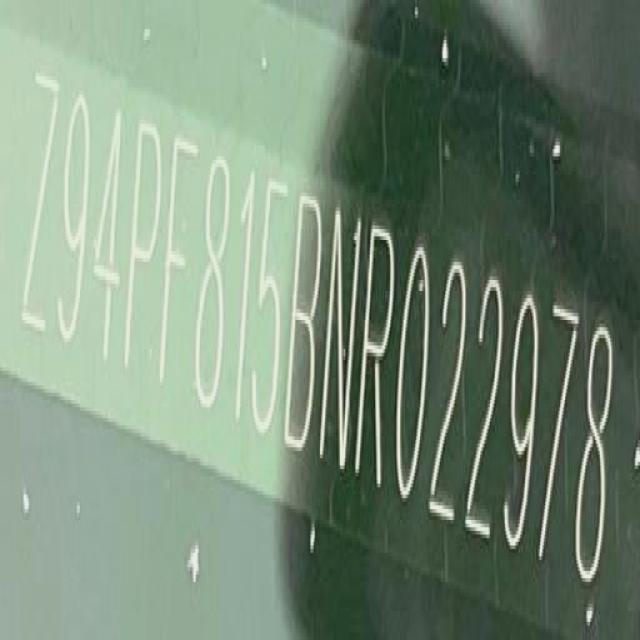0: (390, 243, 434, 513)
1: (228, 168, 256, 428)
2: (428, 251, 469, 531), (464, 270, 504, 550)
4: (87, 98, 131, 370)
5: (252, 164, 286, 435)
7: (538, 294, 577, 578)
8: (574, 312, 618, 590), (191, 143, 233, 412)
9: (50, 84, 93, 357), (502, 283, 543, 560)
B: (284, 184, 328, 454)
F: (154, 128, 201, 394)
N: (318, 202, 363, 479)
P: (120, 116, 167, 381)
R: (357, 213, 399, 491)
Z: (18, 65, 62, 337)
